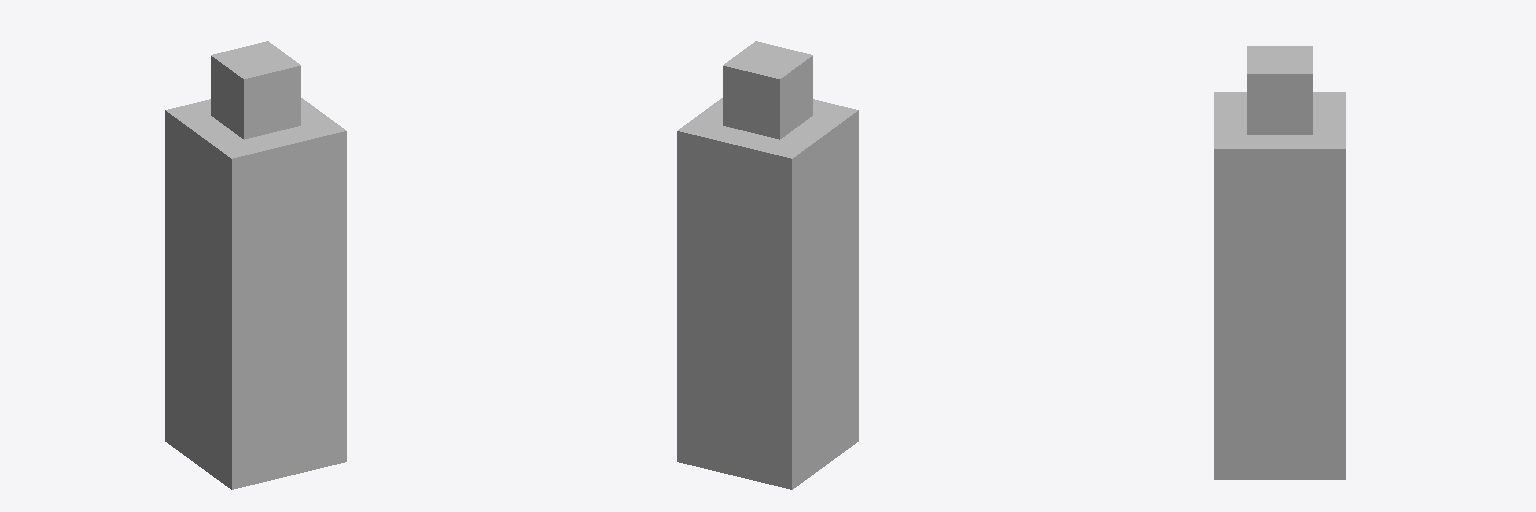
Rendered from Termo.obj.
3 views of the same model, side by side, from view 1: azimuth 30°, elevation 25°; view 2: azimuth 150°, elevation 25°; view 3: azimuth 270°, elevation 25° (orthographic).
Parts seen in each view (by area): view 1: Cube; view 2: Cube; view 3: Cube.
Boxes of the visible parts, x1=… form: Cube: x1=165, y1=41, x2=346, y2=489; Cube: x1=677, y1=41, x2=858, y2=489; Cube: x1=1214, y1=46, x2=1345, y2=479.
Size of the model in its own units: 0.2976 by 0.9672 by 0.2976.